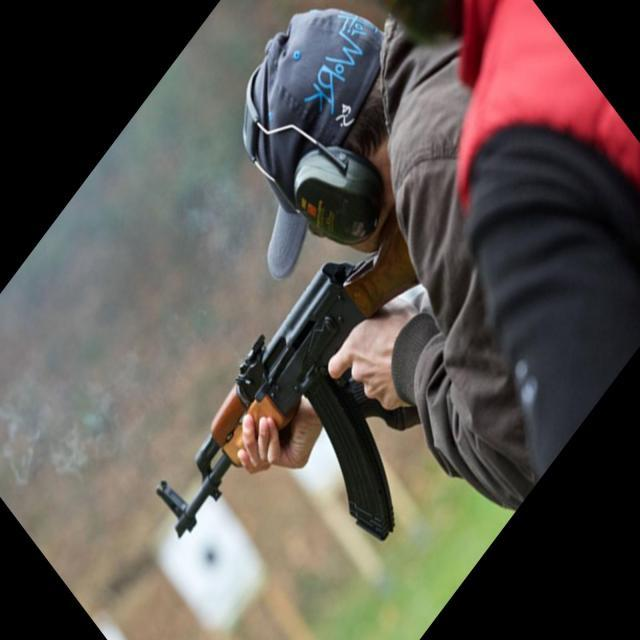weapon: (158, 216, 422, 544)
